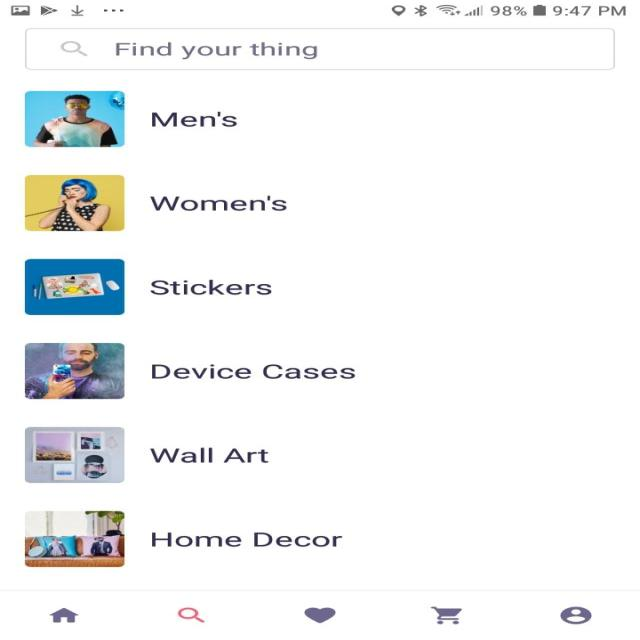EditText: (25, 27, 615, 70)
Icon: (430, 605, 462, 624), (559, 606, 591, 624), (303, 606, 336, 623), (60, 40, 88, 57), (48, 607, 78, 622), (177, 606, 204, 622)
Image: (24, 258, 124, 316), (24, 510, 124, 568), (24, 90, 124, 147), (24, 342, 124, 399), (24, 426, 124, 483), (24, 174, 124, 230)
Text: (115, 42, 318, 59), (152, 363, 356, 379), (151, 532, 343, 547), (149, 195, 287, 211), (149, 279, 272, 295), (150, 447, 268, 463), (151, 111, 237, 127)
